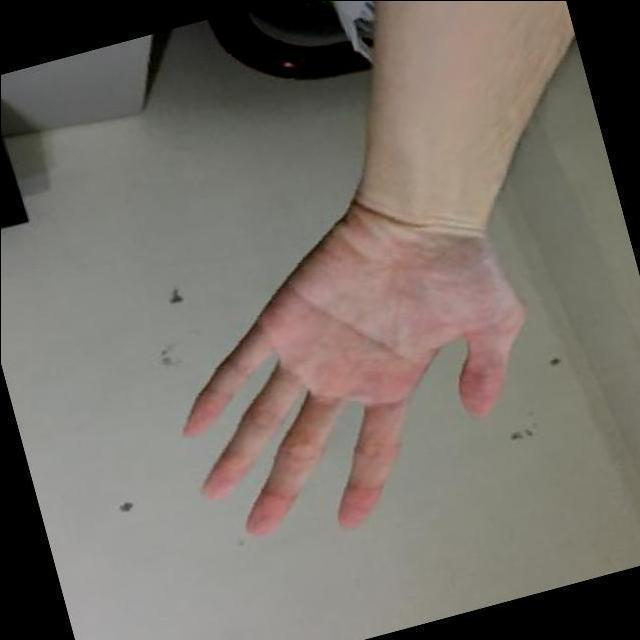hand: (168, 170, 540, 545)
